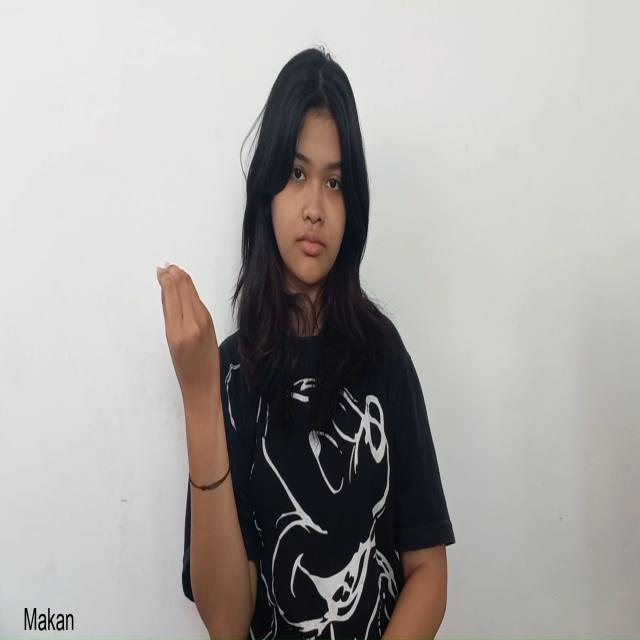Makan -BISINDO-: (156, 261, 227, 443)
